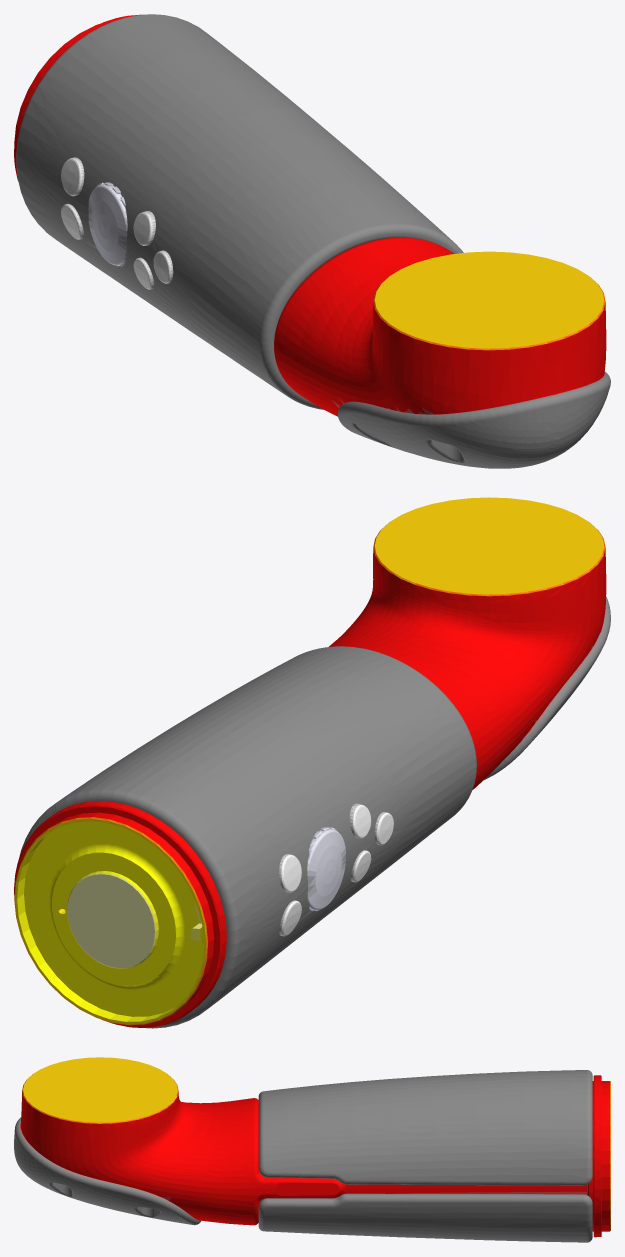
File: SawyerLink5.dae
3 renders of one model, top to bottom at view 1: azimuth 30°, elevation 25°; view 2: azimuth 150°, elevation 25°; view 3: azimuth 270°, elevation 25°, orthographic. The views are drawn at different scales.
Visible parts, largest first — view 1: SawyerLink5; view 2: SawyerLink5; view 3: SawyerLink5.
Part boxes in pixels (x1,y1,x2,y2): SawyerLink5: (14,14,610,468); SawyerLink5: (14,497,610,1028); SawyerLink5: (14,1057,610,1242).
Bounding box in the file's own units: 0.0944 × 0.3244 × 0.0939.
